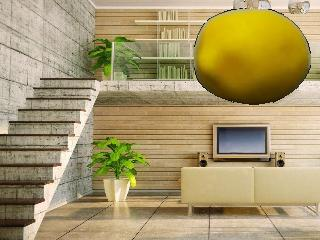lemon: (194, 9, 310, 104)
